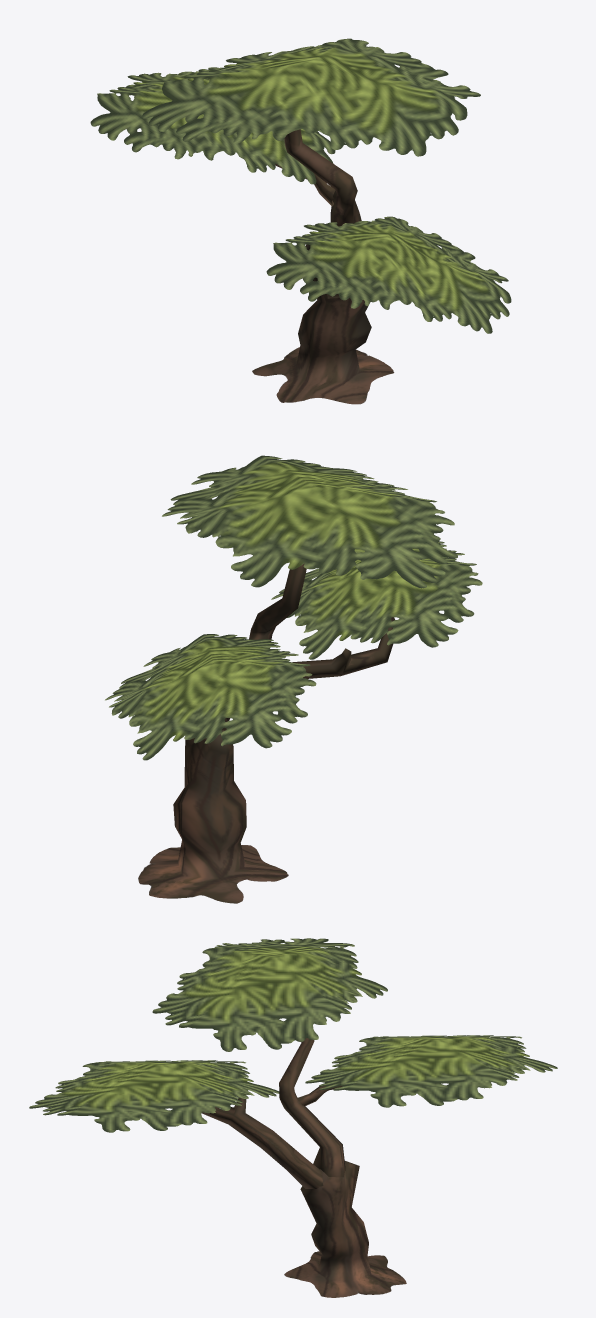
Rendered from shrub_bonsai_01.fbx.
3 renders of one model, top to bottom at view 1: azimuth 30°, elevation 25°; view 2: azimuth 150°, elevation 25°; view 3: azimuth 270°, elevation 25°, orthographic. The views are drawn at different scales.
Parts seen in each view (by area): view 1: shrub_bonsai_01; view 2: shrub_bonsai_01; view 3: shrub_bonsai_01.
Part boxes in pixels (x1,y1,x2,y2): shrub_bonsai_01: (90, 38, 511, 404); shrub_bonsai_01: (105, 455, 482, 903); shrub_bonsai_01: (29, 938, 557, 1297).
Size of the model in its own units: 204 by 209 by 365.
1 material, 1 textured.
